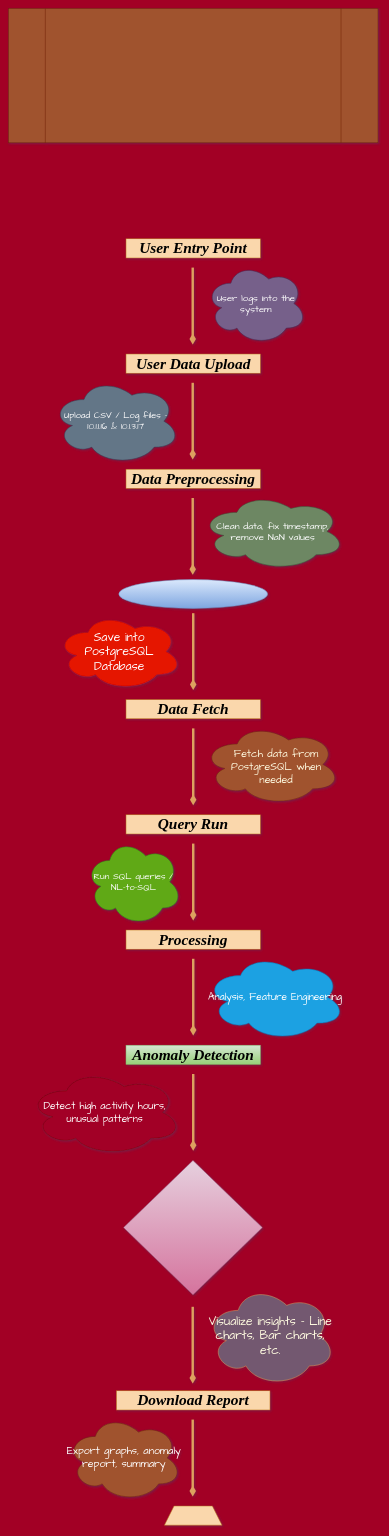
Image size: 389x1536. Some labels were removed from this diagram. Each missing label, with the centre of its shape:
Data Storage: the point at 193,593
End: the point at 193,1515
Grafana Dashboard: the point at 192,1227
Telecom Switch Logs Monitoring System: the point at 193,75
